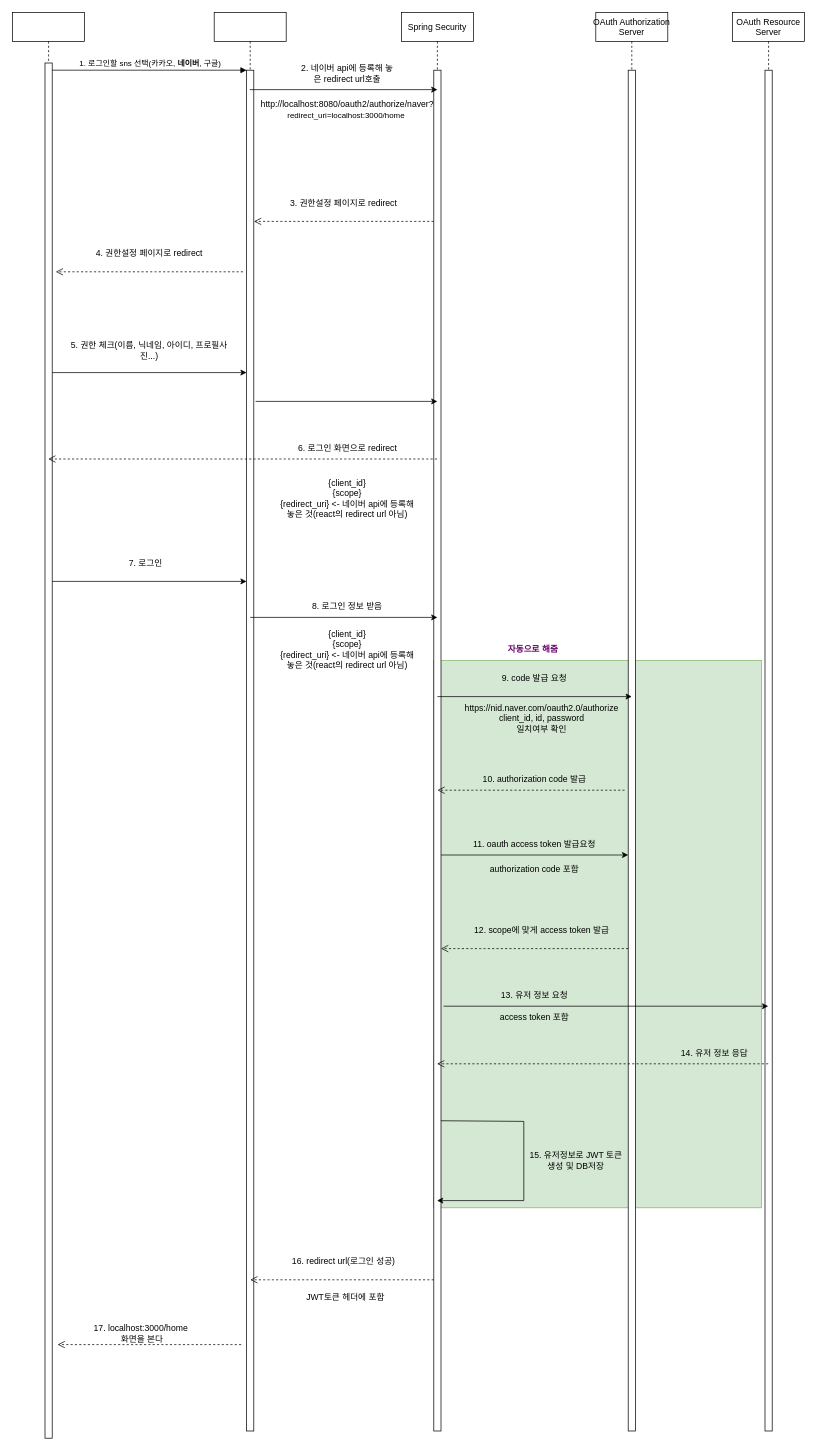
The diagram is 817 pixels wide and 1451 high, and some of its shapes have lost their labels. The box of each missing label's shape, as (x1, y1, x2, y2) in pixels:
React: (213, 12, 286, 1431)
User: (12, 12, 85, 1438)
